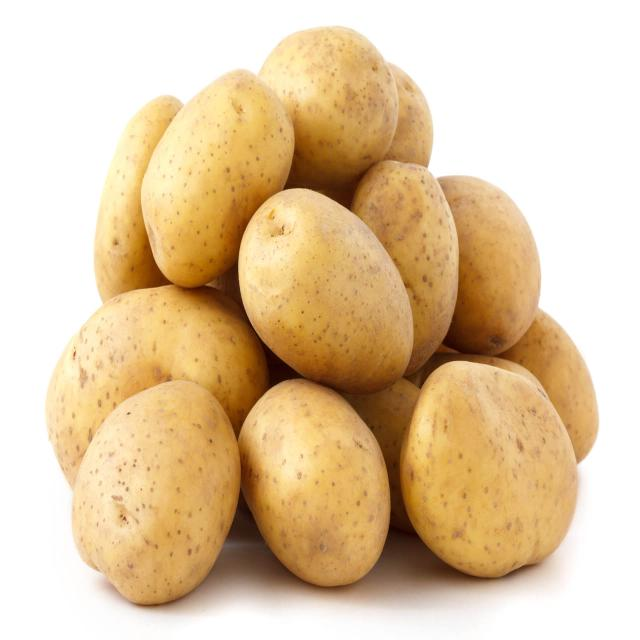Potato: (45, 285, 269, 488), (400, 362, 578, 578), (72, 381, 241, 606), (239, 189, 414, 394), (141, 69, 294, 287), (239, 379, 390, 587), (351, 161, 459, 375), (259, 26, 399, 190), (438, 176, 541, 356), (94, 96, 182, 304)
